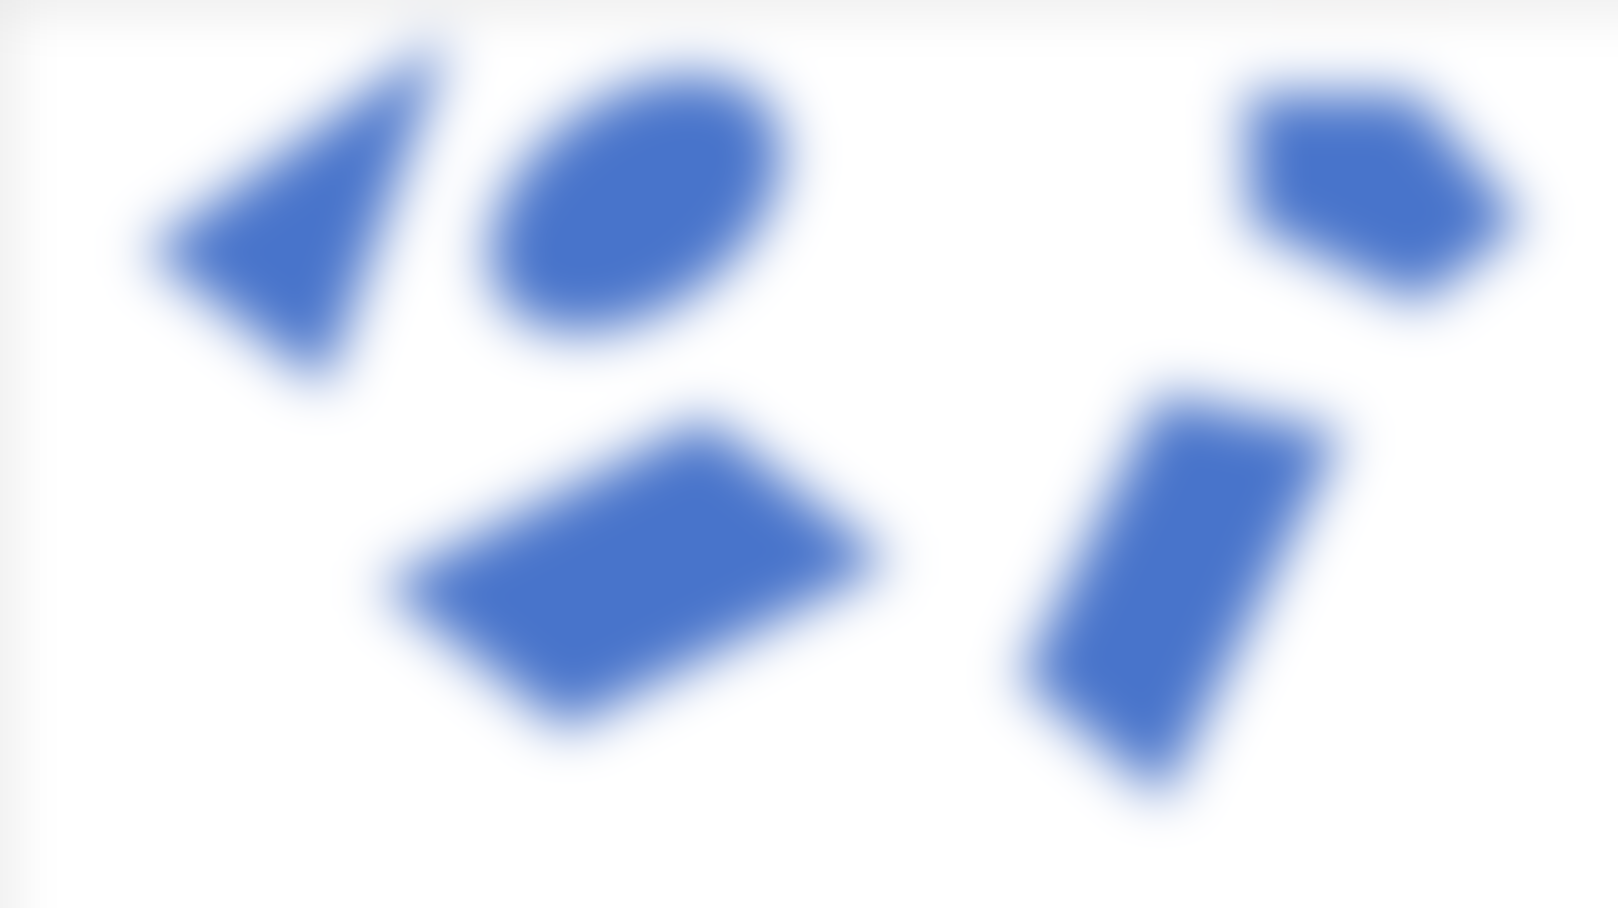circle: (475, 51, 817, 355)
parallelogram: (351, 415, 907, 758)
pentagon: (1188, 33, 1545, 327)
trapezium: (996, 391, 1344, 794)
triangle: (134, 33, 460, 391)
